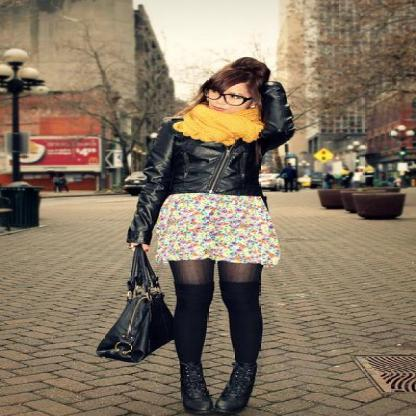bag: (97, 246, 179, 362)
jacket: (122, 112, 302, 245)
shoe: (171, 362, 263, 416)
skirt: (154, 193, 279, 274)
